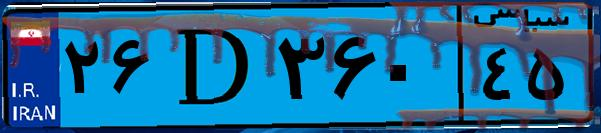0: (385, 28, 445, 110)
2: (57, 26, 110, 100)
3: (270, 28, 330, 110)
4: (475, 38, 525, 113)
5: (525, 38, 570, 115)
6: (330, 28, 385, 110), (110, 28, 158, 98)
D: (158, 12, 270, 120)
